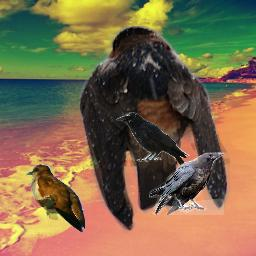Crow: (149, 152, 224, 215), (116, 112, 190, 169)
Cuckoo: (26, 164, 85, 234)
Swallow: (79, 26, 230, 233)
